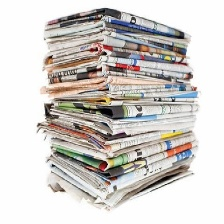news_paper: (30, 6, 201, 210)
